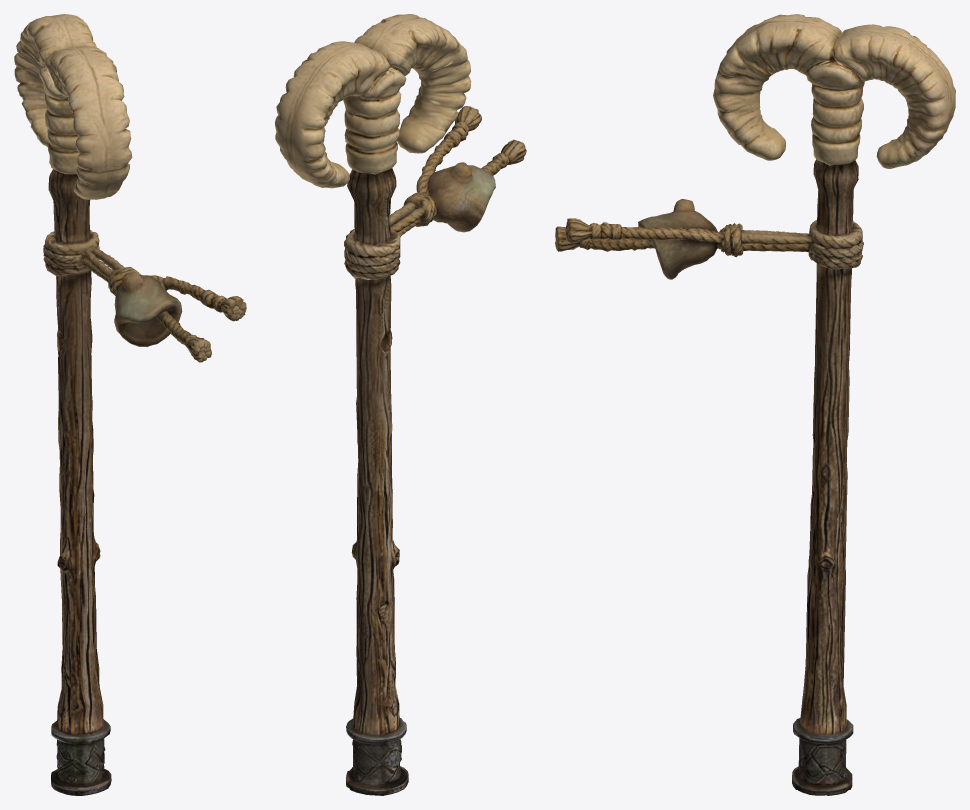
The model's file is shepherd_crook.glb.
3 renders of one model, left to right at view 1: azimuth 30°, elevation 25°; view 2: azimuth 150°, elevation 25°; view 3: azimuth 270°, elevation 25°, orthographic. The views are drawn at different scales.
Visible parts, largest first — view 1: shepherd_crook; view 2: shepherd_crook; view 3: shepherd_crook.
Part boxes in pixels (bbox=[...]): shepherd_crook: bbox=[14, 14, 246, 795]; shepherd_crook: bbox=[275, 14, 526, 795]; shepherd_crook: bbox=[555, 14, 955, 795].
Size of the model in its own units: 0.2368 by 1.8 by 0.863.
1 material, 1 textured.
